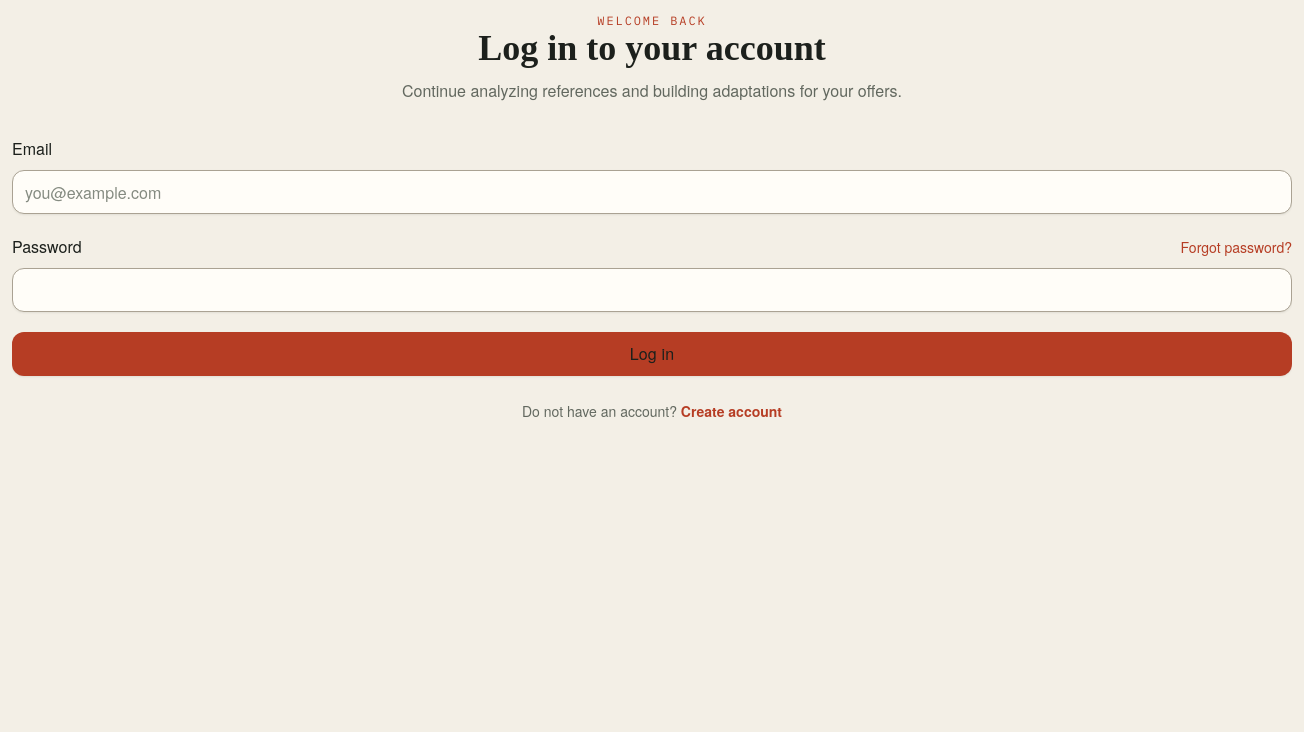
Test case: email verification flow › redirects an unverified login to the pending verification screen
This screenshot has width=1304, height=732.
Type "waiting@example.com" into the field labelled "Email".
click(652, 192); type("waiting@example.com")  # box [12,170,1292,214]
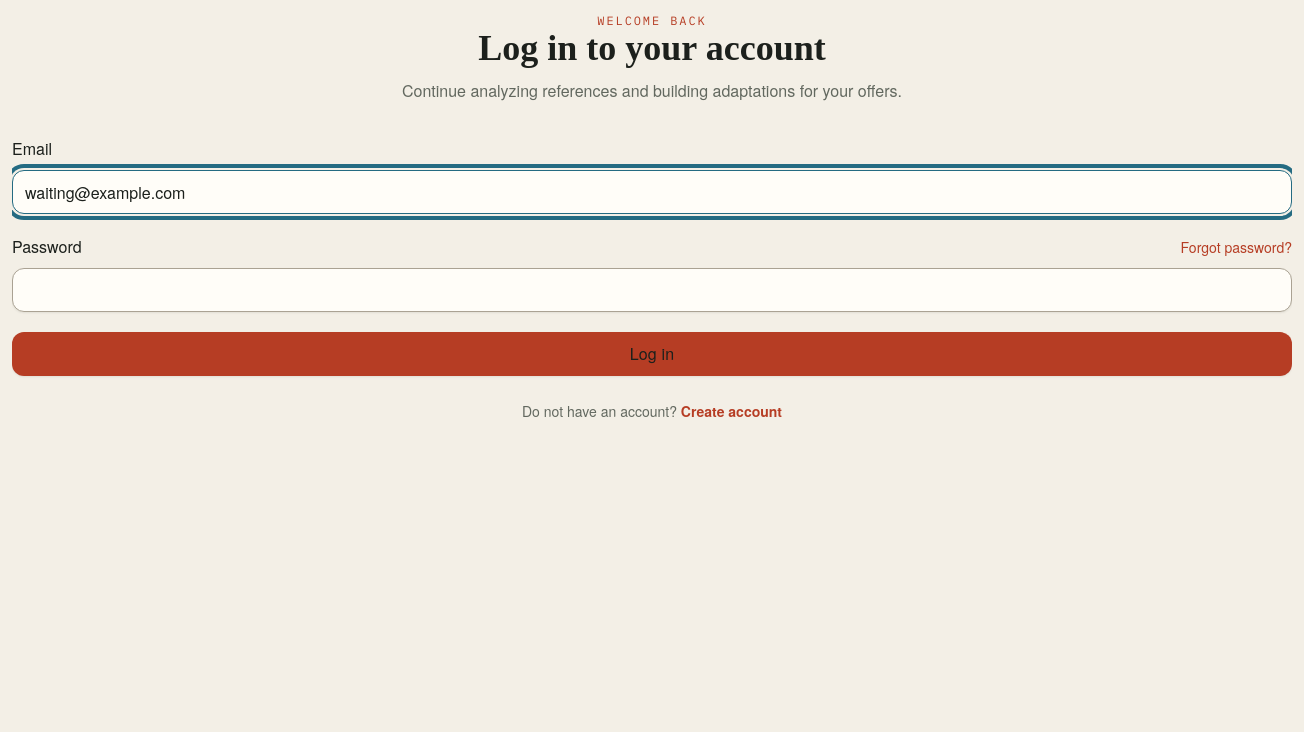
Type "secure-pass" into the password field labelled "Password".
click(652, 290); type("secure-pass")  # box [12,268,1292,312]
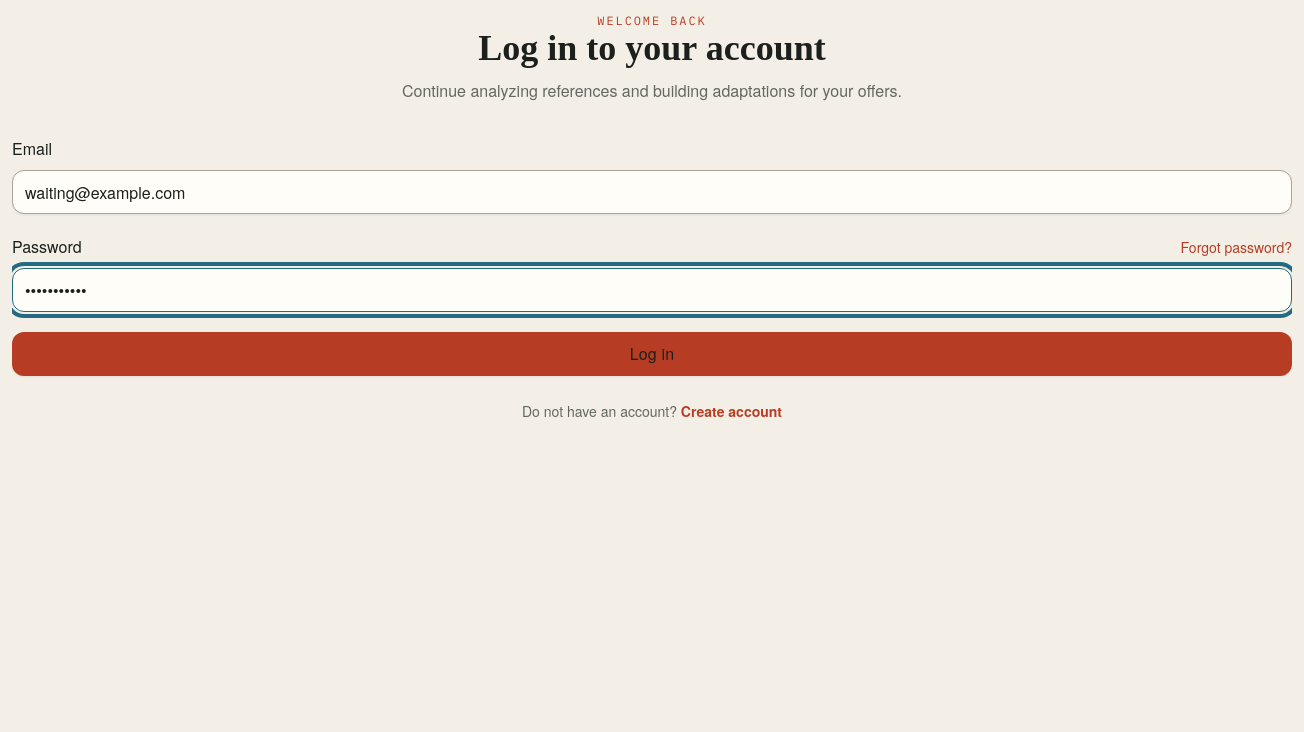
Click the button "Log in".
click(652, 354)  # box [12,332,1292,376]
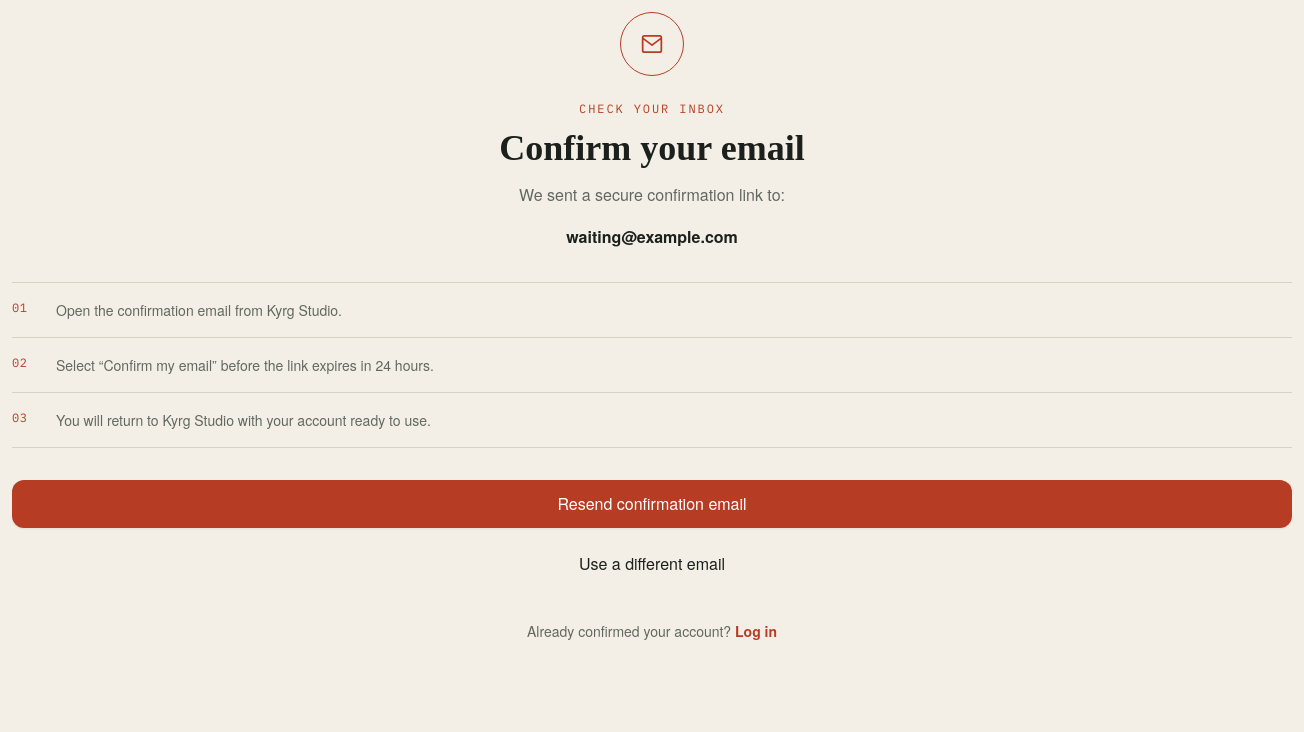
Now the heading "Confirm your email" is shown, box [499,128,805,168]
Now the text "waiting@example.com" is shown, box [566,225,738,248]
